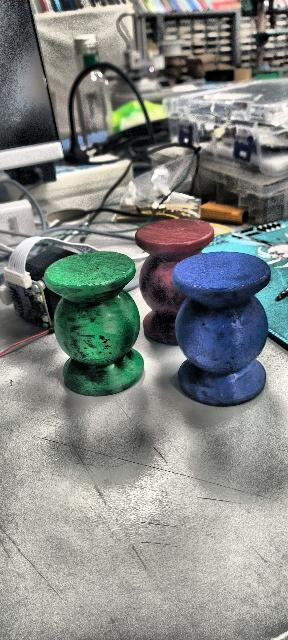blue: (172, 250, 270, 406)
green: (44, 246, 150, 394)
red: (129, 219, 216, 359)
